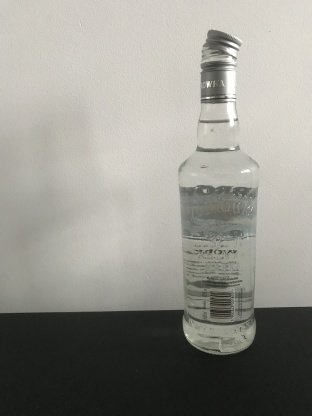nakretka: (199, 27, 243, 103)
